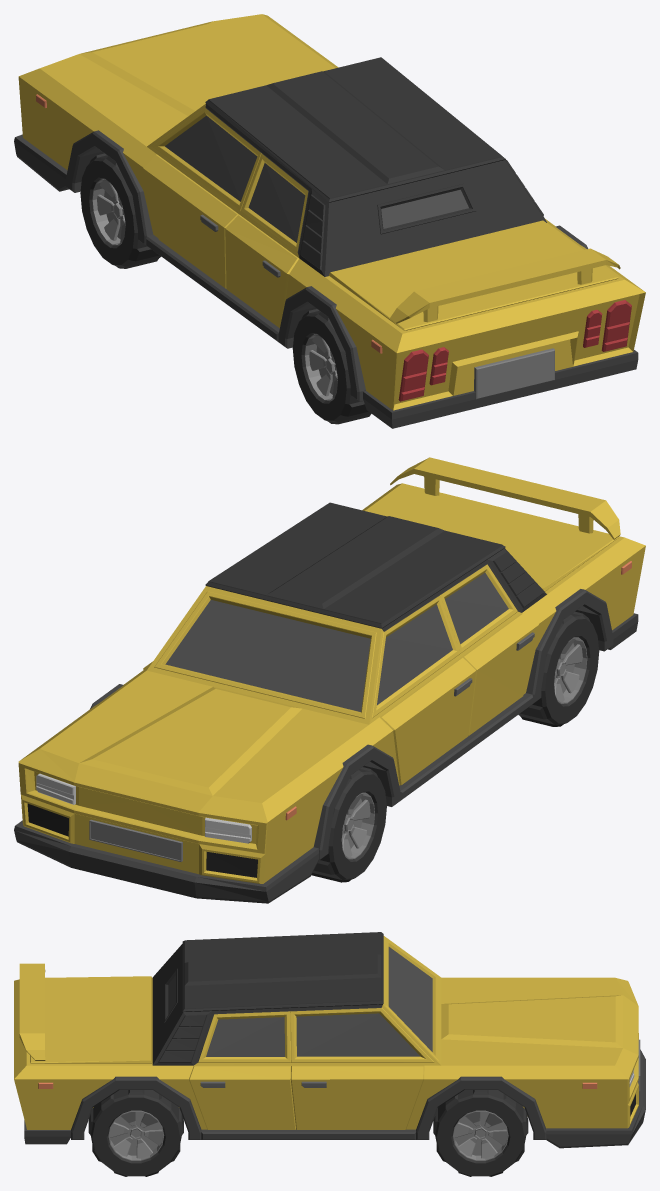
The model's file is lp-sedan-yellow.glb.
The picture shows the model from 3 angles, top to bottom: view 1: azimuth 30°, elevation 25°; view 2: azimuth 150°, elevation 25°; view 3: azimuth 270°, elevation 25°; orthographic projection. The views are drawn at different scales.
Visible parts, largest first — view 1: lp-sedan-yellow; view 2: lp-sedan-yellow; view 3: lp-sedan-yellow.
Part boxes in pixels (box(x1,y1,x2,y2)): lp-sedan-yellow: box(14, 14, 645, 428); lp-sedan-yellow: box(14, 457, 645, 903); lp-sedan-yellow: box(14, 932, 645, 1176).
Bounding box in the file's own units: 1.9 × 1.44 × 4.98.
1 material, 1 textured.
